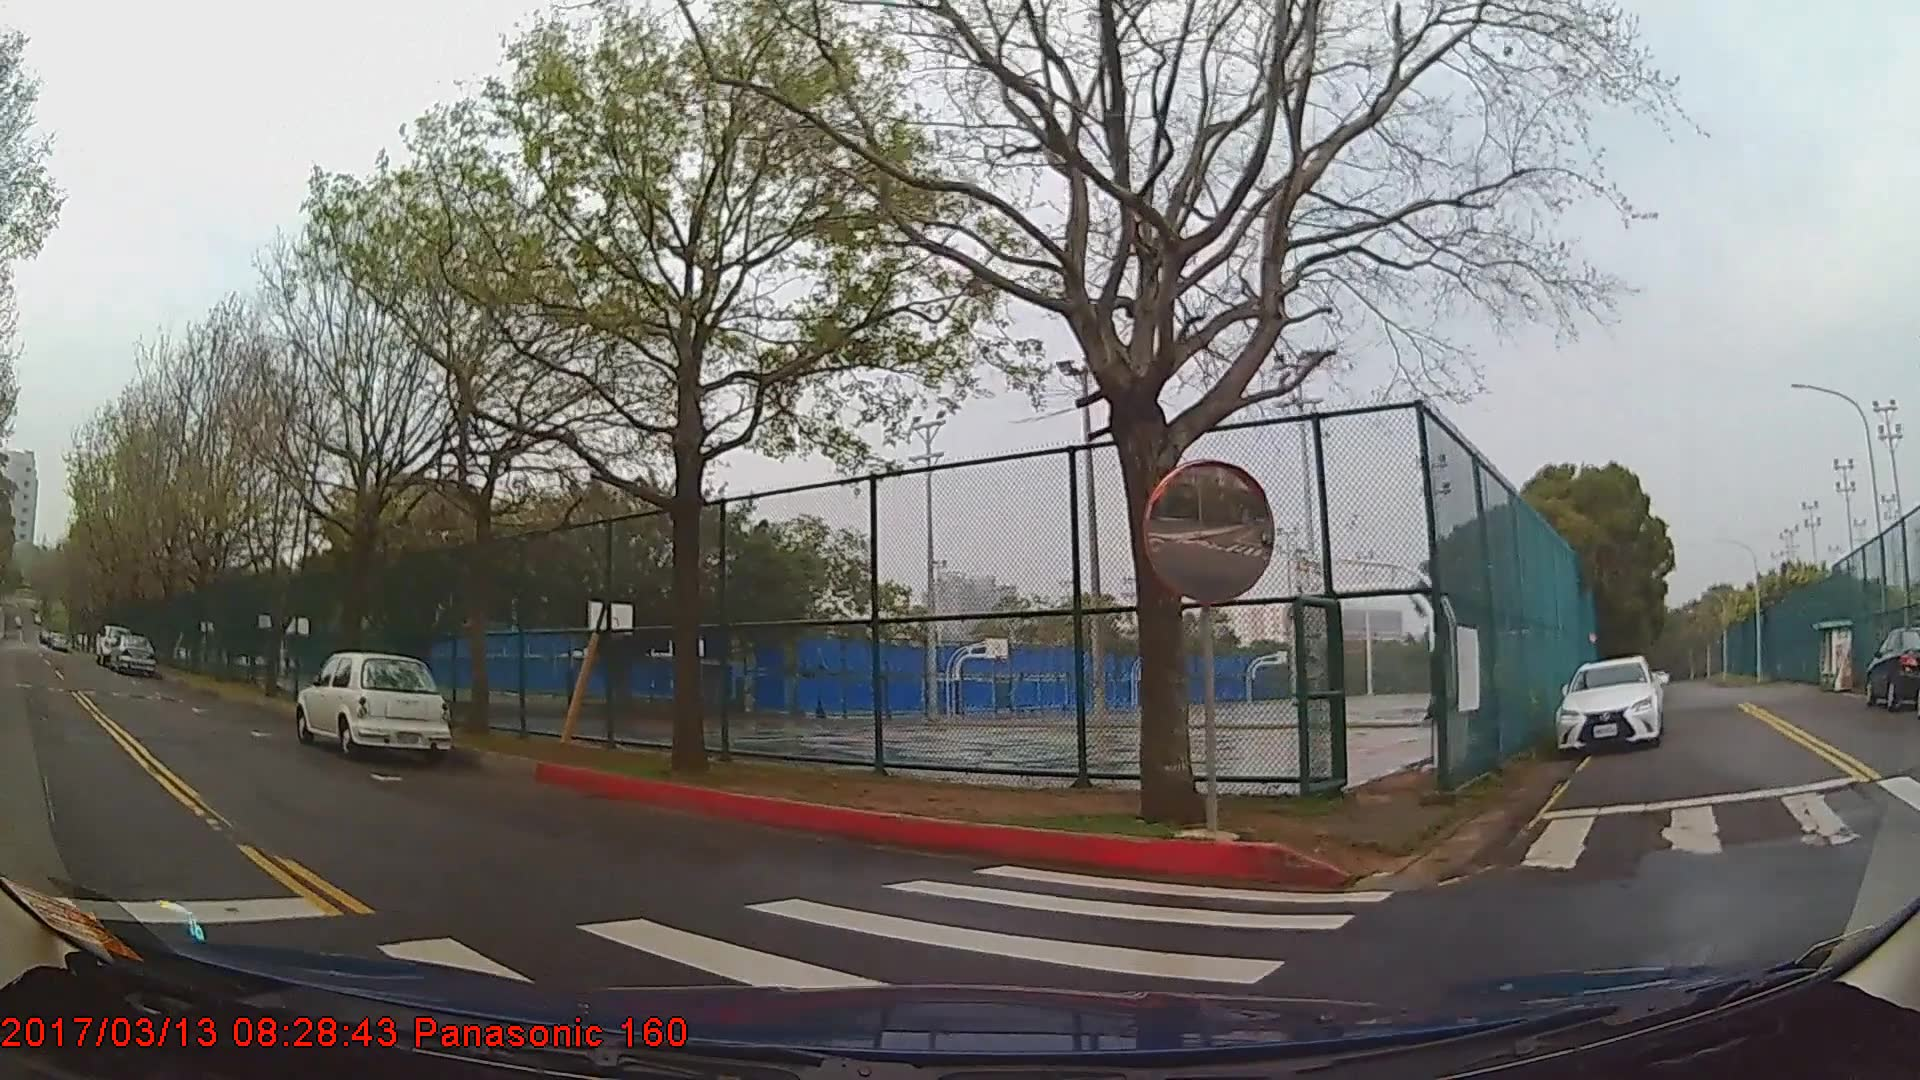vehicle: (295, 647, 452, 752), (1556, 655, 1665, 753), (1865, 624, 1920, 709), (107, 630, 158, 674)
